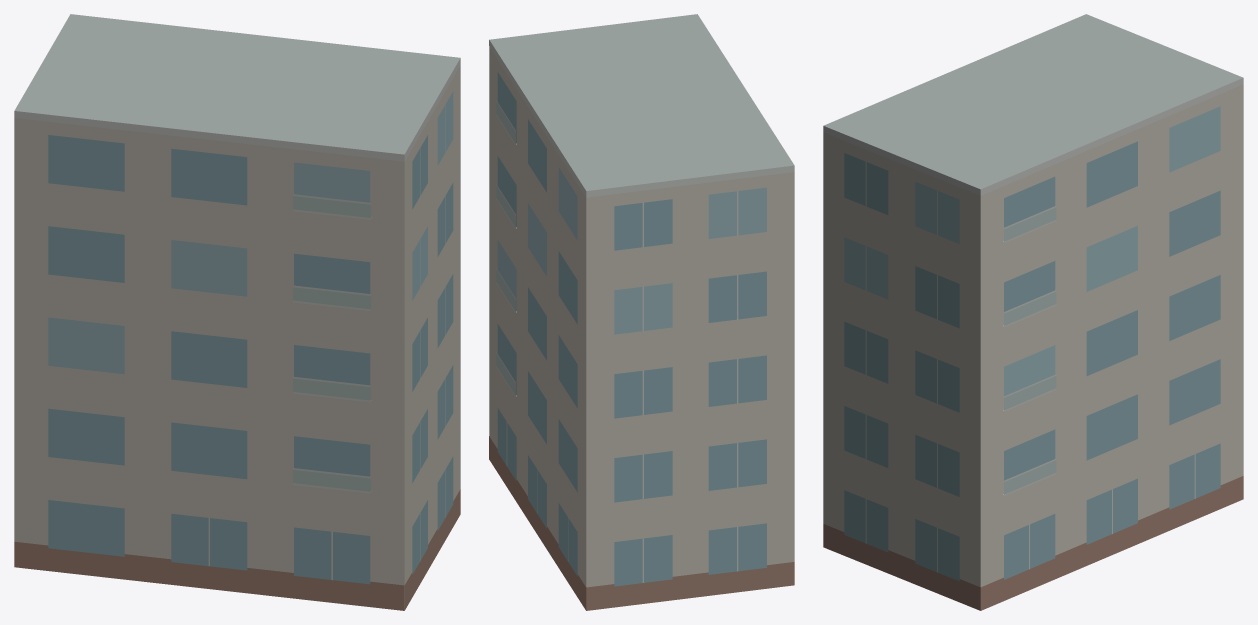
File: survey-upis-32561683.glb
3 views of the same model, side by side, from view 1: azimuth 30°, elevation 25°; view 2: azimuth 150°, elevation 25°; view 3: azimuth 270°, elevation 25° (orthographic). The views are drawn at different scales.
Visible parts, largest first — view 1: survey-upis-32561683.tmp; view 2: survey-upis-32561683.tmp; view 3: survey-upis-32561683.tmp.
Part boxes in pixels (<box>): survey-upis-32561683.tmp: <box>14,14,460,610</box>; survey-upis-32561683.tmp: <box>489,14,794,610</box>; survey-upis-32561683.tmp: <box>823,14,1243,610</box>.
Size of the model in its own units: 14.11 by 15.8 by 14.29.
